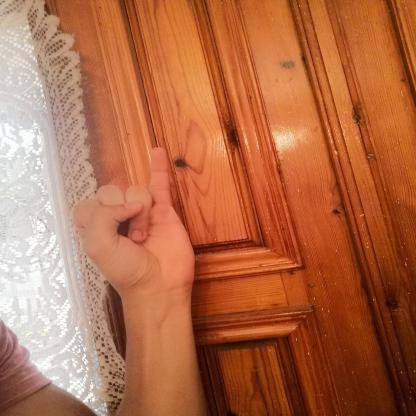MEEM: (55, 139, 213, 306)
